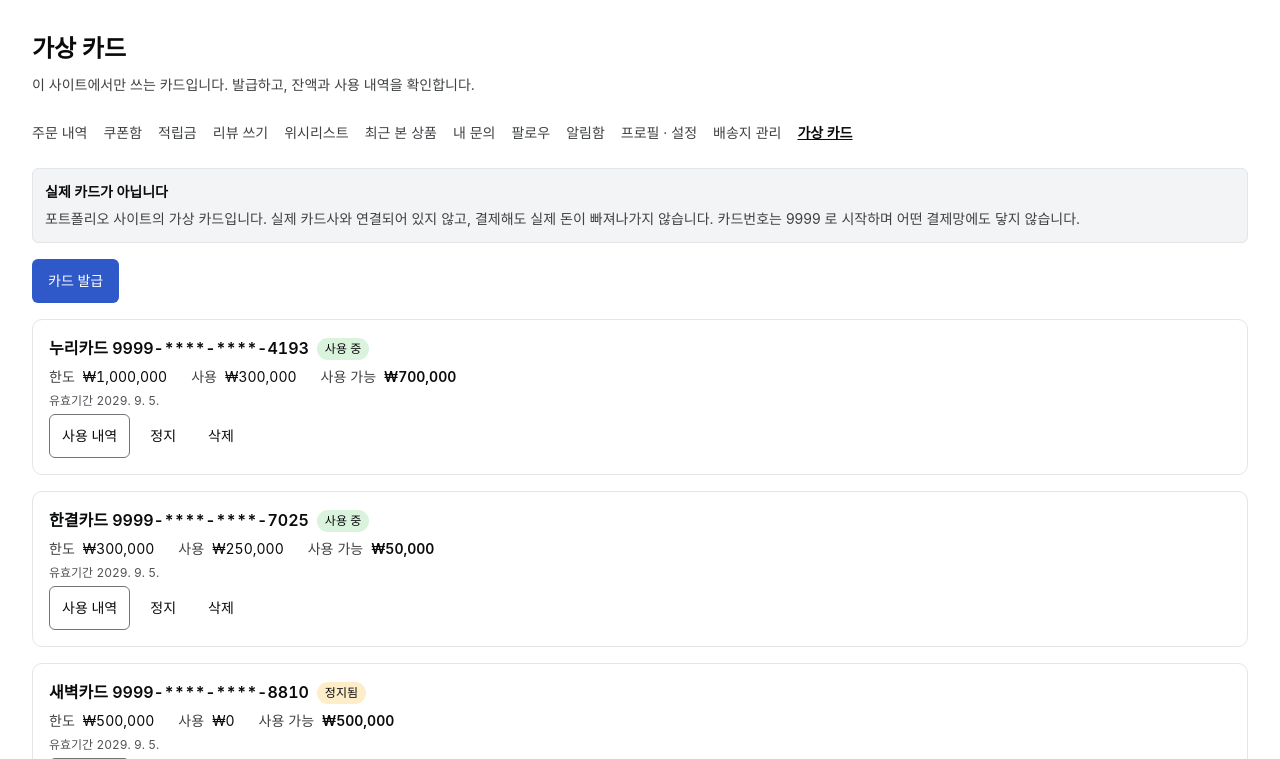
정지와 해제 (F5) › suspends a card and says so
The width and height of the screenshot is (1280, 759).
Expected: the heading "가상 카드" is shown, [32,34,126,63]
Click the button "정지" below "₩1,000,000" at (163, 436), box [138,414,188,458]
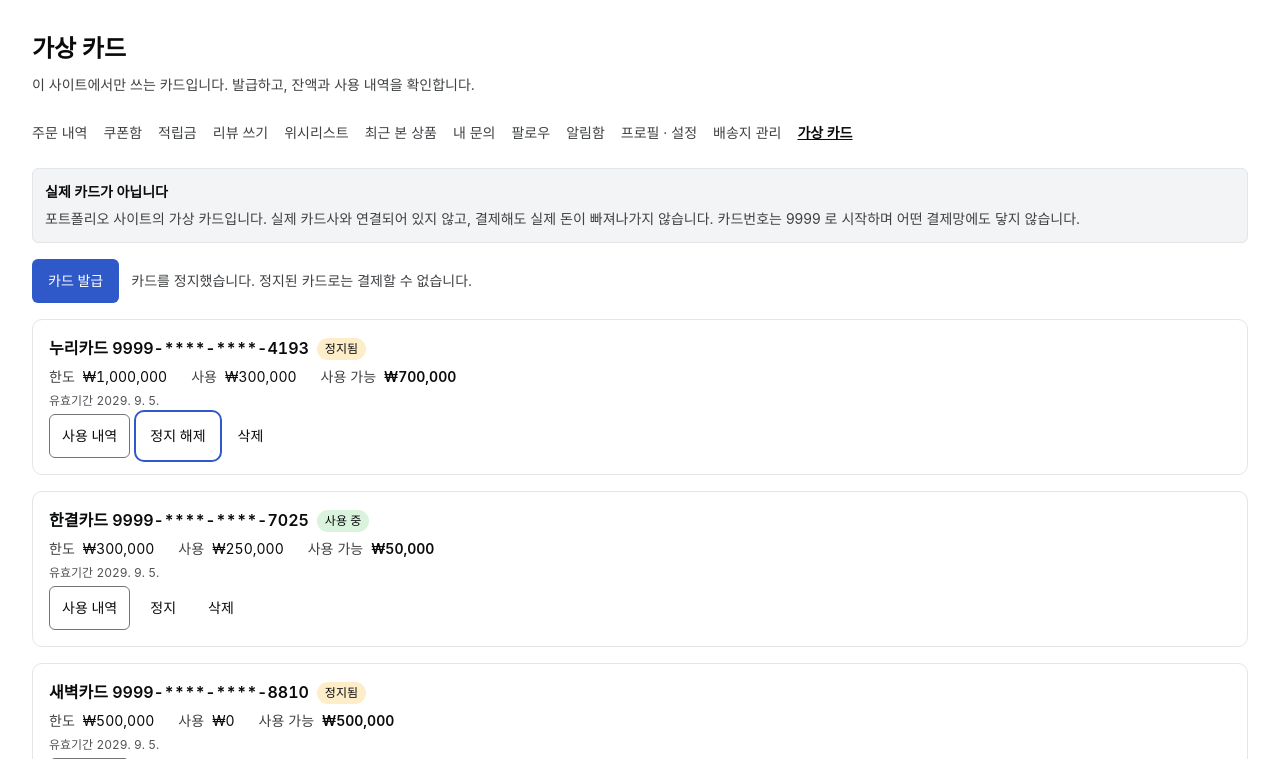
Now the text "카드를 정지했습니다. 정지된 카드로는 결제할 수 없습니다." is shown, box [131,270,472,292]
